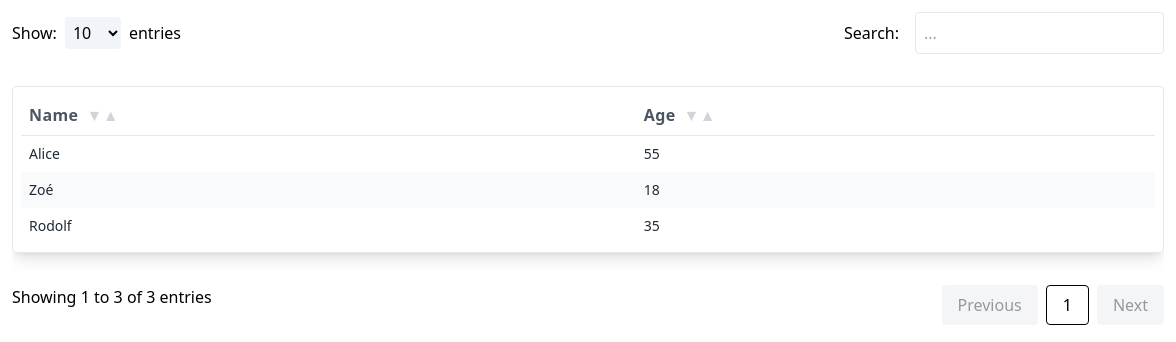
Test case: Table component | integration tests › When a column header is clicked for sorting › Should display the three different sort icons
Click the button "Name ▼▲" at (78,115), box [29,103,126,127]
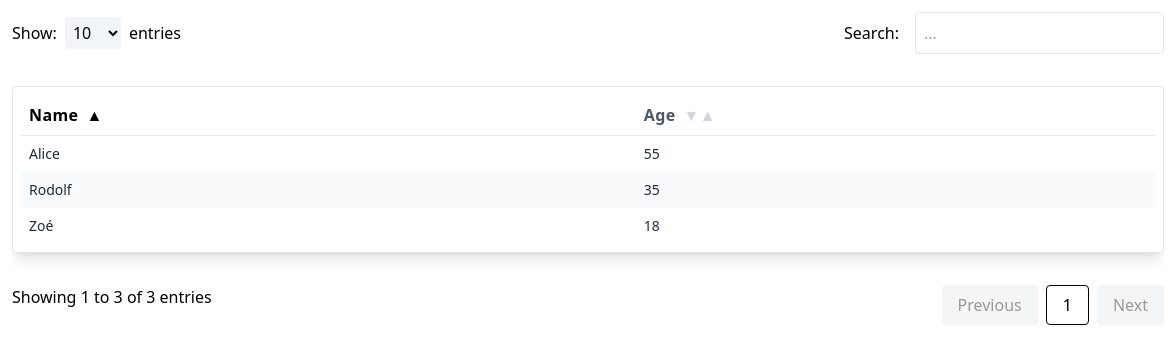
Expected: the button "Name ▲" is shown
Click the button "Name ▲" at (78,115), box [29,103,126,127]
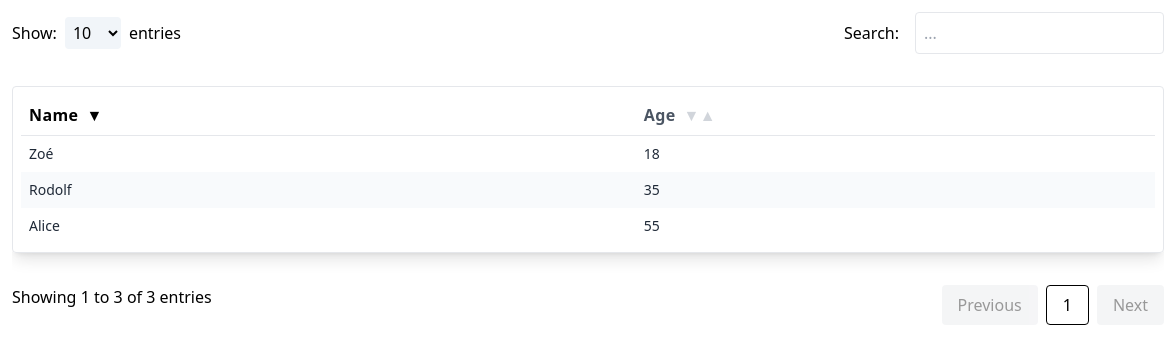
Expected: the button "Name ▼" is shown, [29,103,126,127]
